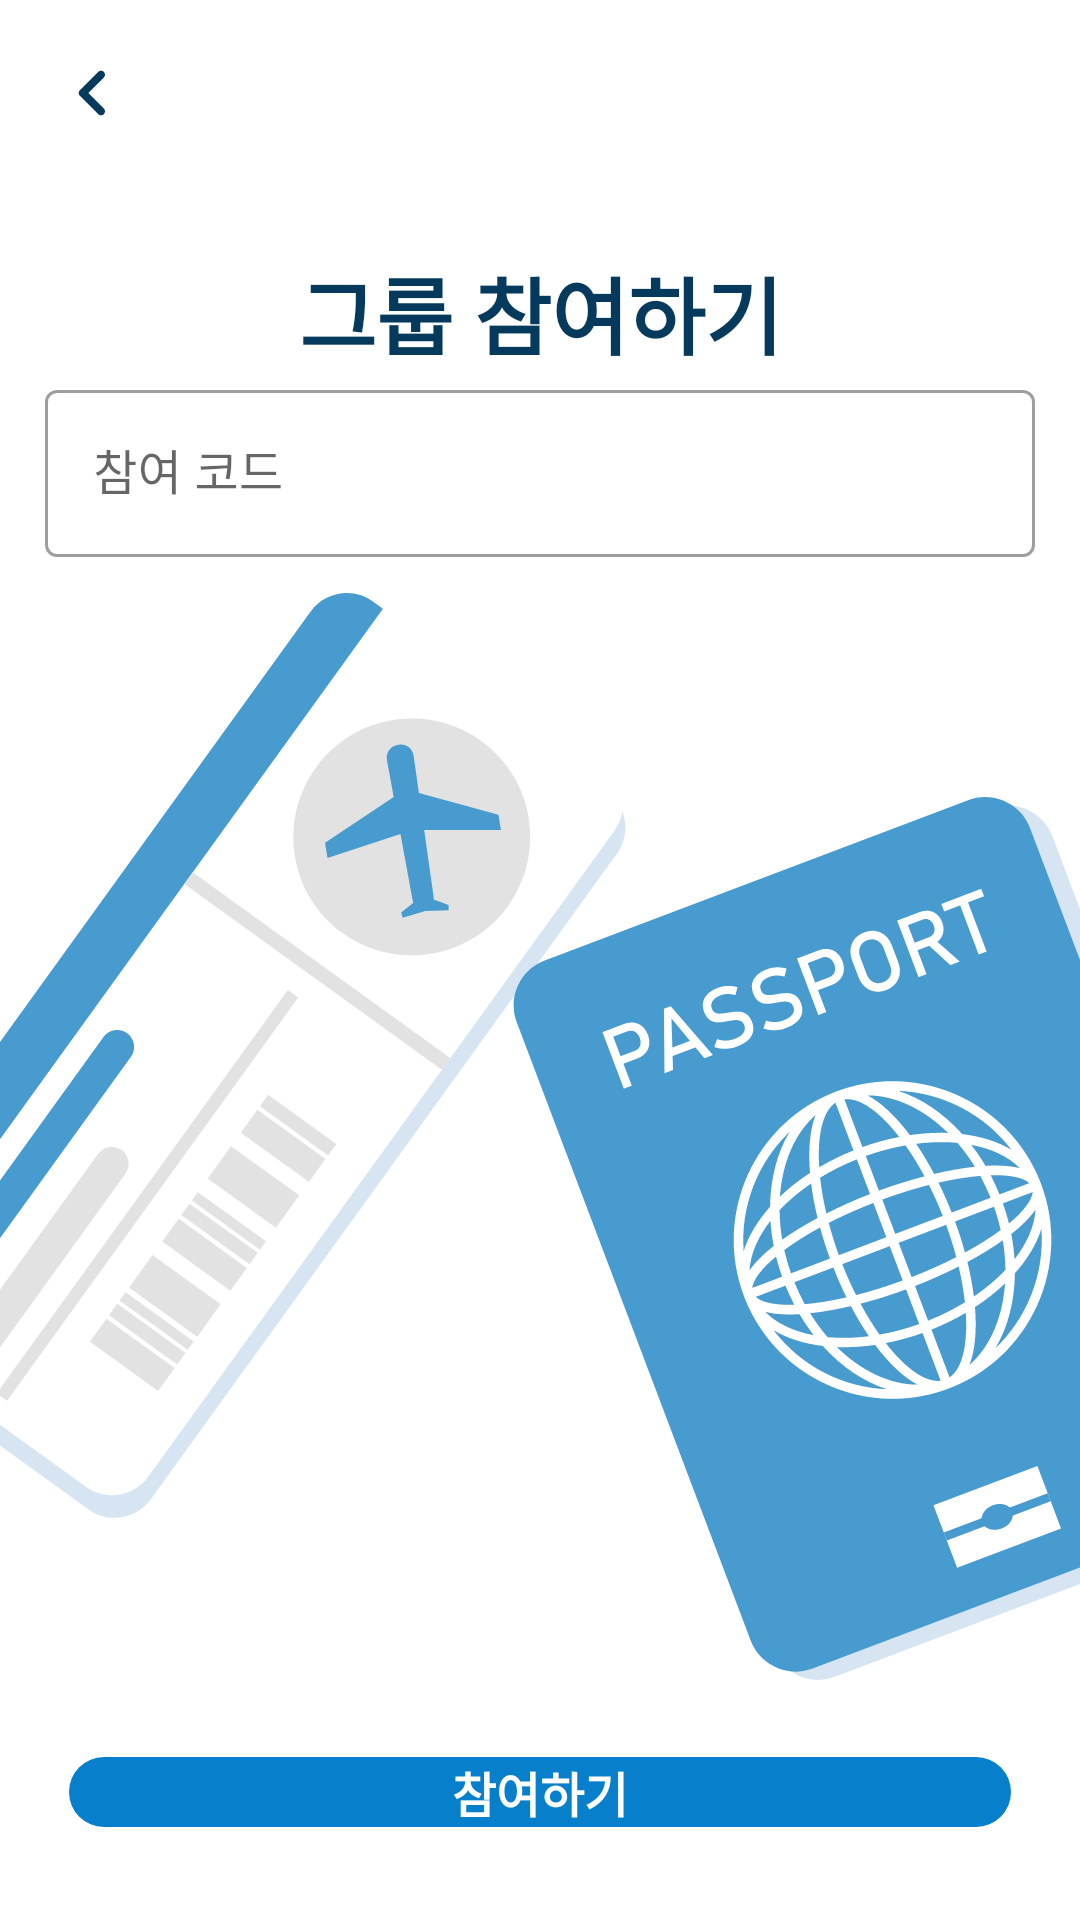

Locate icon controls on the screen. Image size 1080px×1920px, boxes as bbox(x1, y1, x2, y2).
arrow left: bbox(78, 70, 105, 116)
